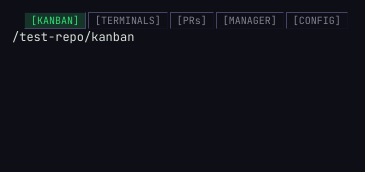
Test case: ViewSwitcher › navigates to prs when clicking PRs tab
The width and height of the screenshot is (365, 172).
What coordinates should you click on to do the following:
click the button "[PRs]"
I would click on:
 (192, 20)
Its box is [170,12,214,29].
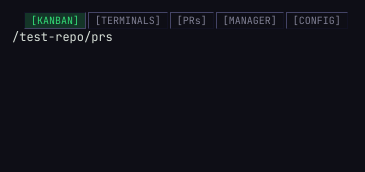
Check: the text with test id "location" reads "/test-repo/prs", box [12,29,113,45]
